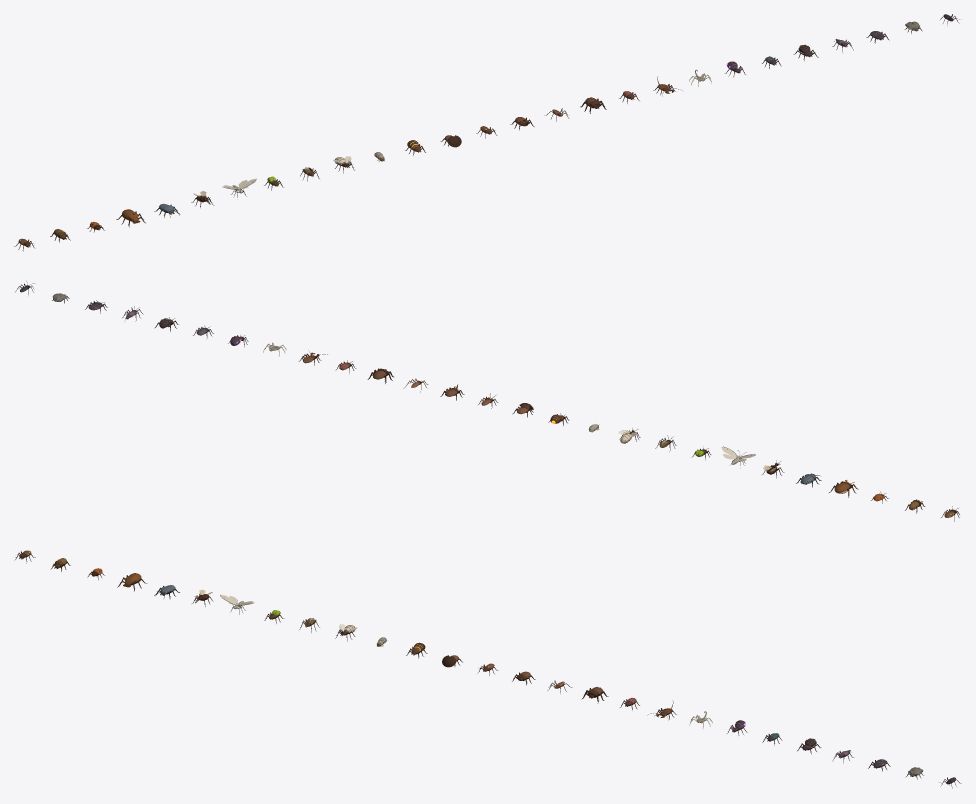
File: all_beetles.glb
3 views of the same model, one above another, from view 1: azimuth 30°, elevation 25°; view 2: azimuth 150°, elevation 25°; view 3: azimuth 330°, elevation 25° (orthographic).
Size of the model in its own units: 185 by 2.48 by 5.81.
